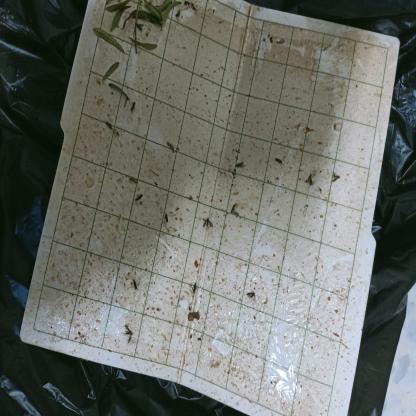prays_oleae: (122, 317, 137, 349), (227, 197, 239, 222), (332, 166, 343, 188), (246, 286, 258, 306), (104, 114, 116, 134), (187, 280, 201, 296), (130, 274, 141, 294), (201, 214, 214, 230), (162, 210, 173, 226), (235, 156, 247, 170), (275, 151, 284, 168), (166, 136, 175, 152), (133, 191, 144, 204)
